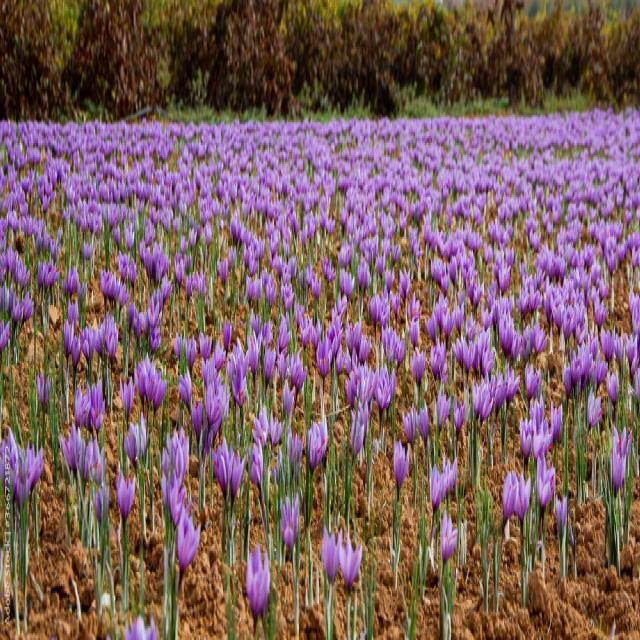saffron open: (246, 545, 270, 625), (176, 511, 200, 589), (339, 535, 362, 593), (321, 526, 341, 586), (441, 511, 458, 565)
